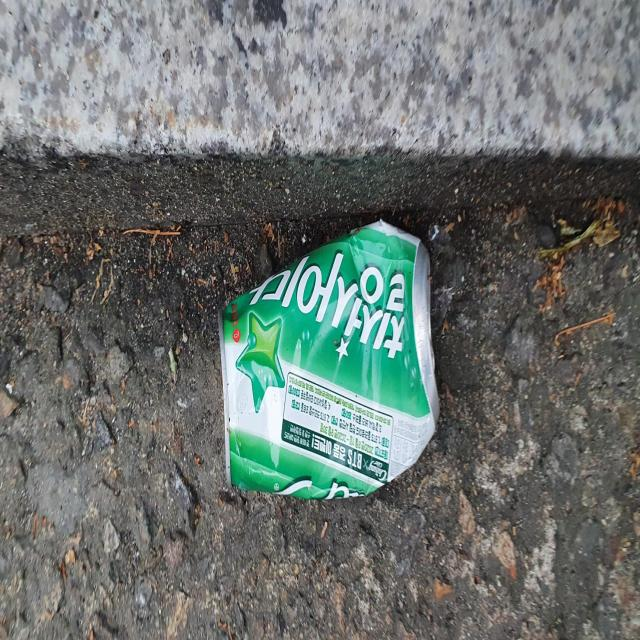can: (219, 220, 440, 500)
